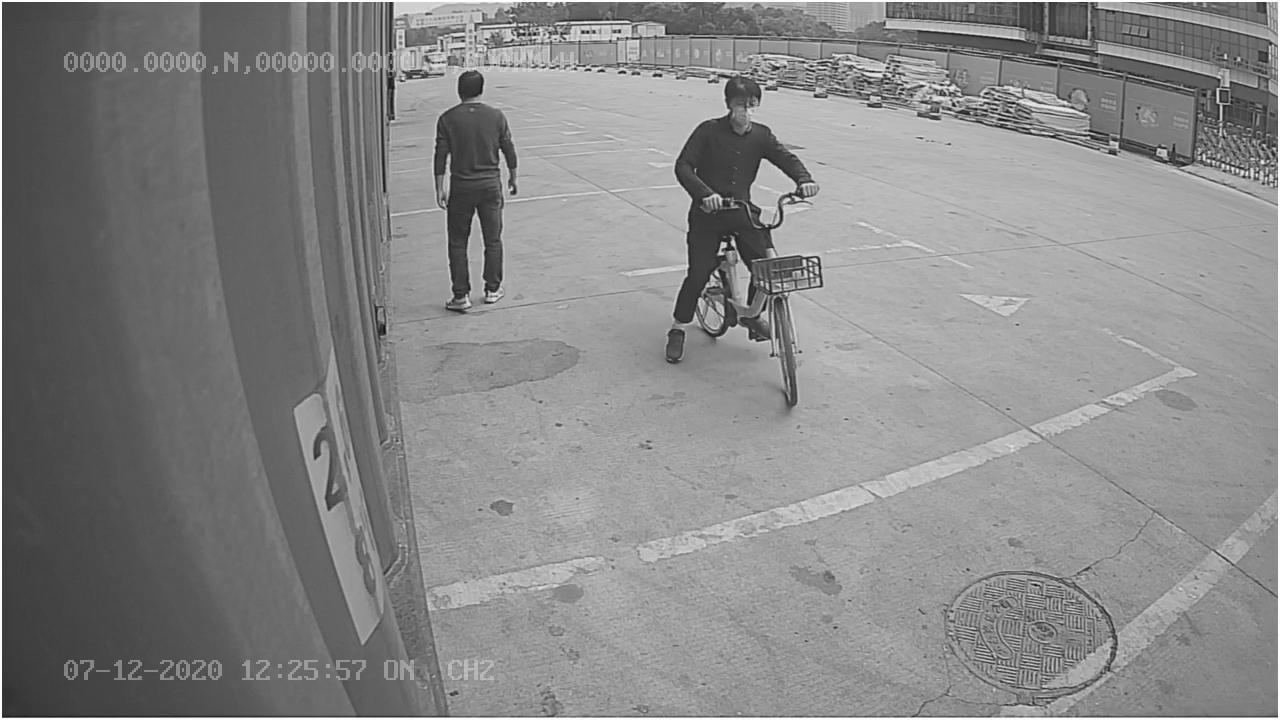person: (429, 67, 523, 312)
